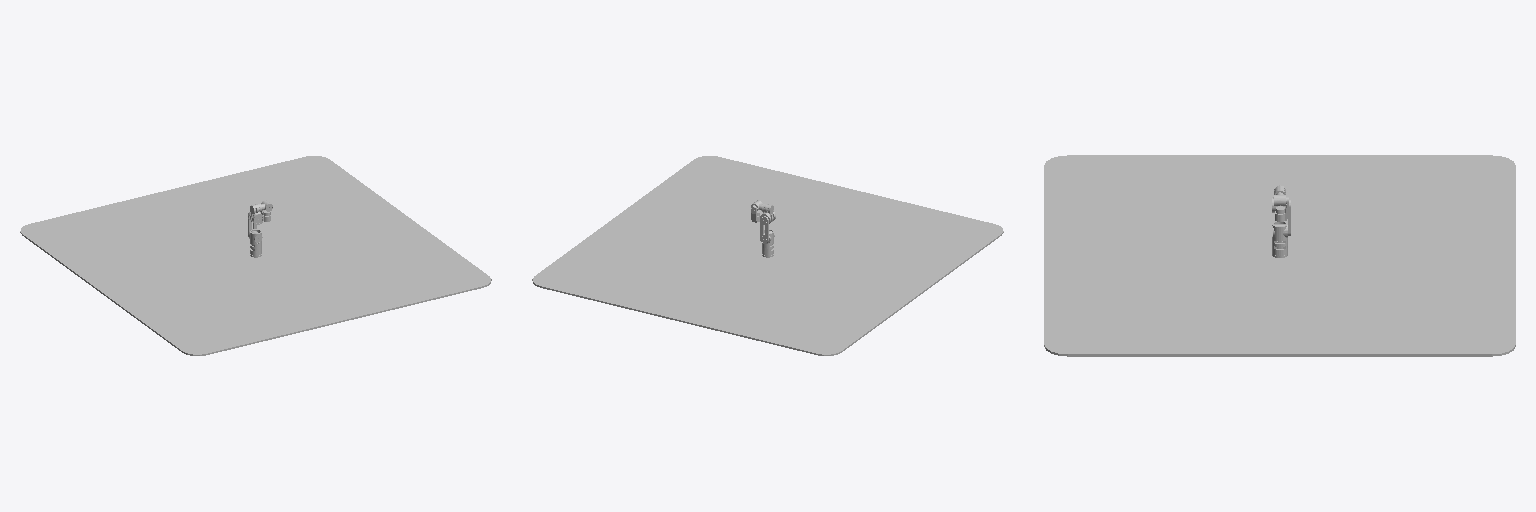
The robot description file, URDF, robot "cobot":
<?xml version="1.0" encoding="utf-8"?>
<robot name="cobot">
<!-- robot significa que a continuació vindrà la descripció d'un robot segons les regles del format URDF -->

<!-- ==========================================================================
     Aquest URDF conté TOTA la definició del cobot:
       - Cinemàtica       (links, joints, límits)      → estàndard URDF
       - Visualització    (meshes)                     → estàndard URDF
       - Propietats físiques (mass, com, inèrcia)      → estàndard URDF
       - Motors i fricció (blocs <motor> i <friction>) → EXTENSIÓ pròpia,
         no forma part del URDF oficial. La llegeix el nostre urdf_loader.py.
         RViz/Gazebo/MoveIt els ignoraran.

     Valors d'inèrcia i masses: calculats amb SolidWorks (Mass Properties).
     Unitats: SI (kg, m, kg·m²).
     ========================================================================== -->


<!--  ESTRUCTURA D'UN URDF

robot
│
├── link                : Peça rígida del robot.
│   │
│   ├── visual          : Com es veu el link.
│   │   ├── origin      : Posició i orientació del visual.
│   │   ├── geometry    : Forma del visual.
│   │   │   ├── mesh    : Fitxer STL/DAE.
│   │   │   ├── box     : Caixa.
│   │   │   ├── cylinder: Cilindre.
│   │   │   └── sphere  : Esfera.
│   │   └── material    : Color o material.
│   │       └── color   : Color RGBA.
│   │
│   ├── collision       : Geometria de col·lisió.
│   │   ├── origin      : Posició de la col·lisió.
│   │   └── geometry    : Forma de col·lisió.
│   │
│   └── inertial        : Propietats físiques.
│       ├── origin      : Centre de masses.
│       ├── mass        : Massa (kg).
│       └── inertia     : Matriu d'inèrcia.
│
├── joint               : Uneix dos links.
│   ├── parent          : Link pare.
│   ├── child           : Link fill.
│   ├── origin          : Transformació pare → fill.
│   ├── axis            : Eix de moviment.
│   ├── limit           : Límits del moviment.
│   ├── dynamics        : Fricció i amortiment.
│   ├── calibration     : Calibració.
│   ├── safety_controller : Seguretat.
│   └── mimic           : Copia un altre joint. Quan es mou un, l'altre també. 
│
├── material            : Material reutilitzable.
│   └── color           : Color RGBA.
│
├── transmission        : Relació motor-joint.
├── gazebo              : Configuració de Gazebo.
└── sensor              : Sensors.


LINK      = Peça rígida (base_link, arm1...)
JOINT     = Articulació.
Un robot sempre estarà format per link -> joint -> link -> joint, etc...

VISUAL    = El que veiem.
COLLISION = El que toca.
INERTIAL  = El que pesa.
-->


<!-- ============================================================================= -->
<!-- Definim el sistema de coordenades global - WORLD -->

  <link name="world" />
  <joint name="world_to_base" type="fixed">     <!-- enllacem world amb base_link. Mai es mourà perquè li hem dit que sigui fixed -->
    <parent link="world" />
    <child link="base_link" />
    <origin xyz="0 0 0" rpy="0 0 0" />          <!-- base_link està exactament allà mateix que world -->
  </joint>


<!-- ============================================================================= -->
<!-- BASE_LINK 
Apareixen 3 blocs: visual, collision i inertial
  - Visual: és el que es veu. No fa res, només és visual
  - Collision: Per calcular col·lisions normalment no es fa servir el propi STL perquè pesa molt, així que s'utilitzen càpsules, cilindres...
  - Inertial: és el que necessita la dinàmica; massa, centre de masses, moments d'inèrcia...
-->

  <link name="base_link">   <!-- NO carrega cap STL ni crea cap objecte... Diu que a partir d'ara descriure una peça del robot anomenada base_link -->
    <visual>
      <origin xyz="0 0 0" rpy="0 0 0" />
      <geometry><mesh filename="meshes/base_link.STL" /></geometry>
      <material name=""><color rgba="0.8 0.8 0.8 1" /></material>
    </visual>

    <!-- NO POSARÉ COLLISION perquè vull simplificar càlcul. Crearé collision_geometry.yaml amb formes molt senzilles com cilindres, rectangles... -->
    
    <inertial>
      <origin xyz="0 0 0" rpy="0 0 0"/>
      <mass value="0"/>
      <inertia ixx="0" iyy="0" izz="0" ixy="0" ixz="0" iyz="0"/>
    </inertial>
  </link>


<!-- ============================================================================= -->
<!-- ARM1 -->

  <link name="arm1">
    <visual>
      <origin xyz="0 0 0" rpy="0 0 0" />
      <geometry><mesh filename="meshes/arm1.STL" /></geometry>
      <material name=""><color rgba="0.8 0.8 0.8 1" /></material>
    </visual>
  
    <inertial>
      <origin xyz="0.00002 0.00508 0.06427" rpy="0 0 0"/>
      <mass value="1.18610"/>
      <inertia ixx="2.107185e-03" iyy="2.077276e-03" izz="2.393350e-04" ixy="-1.700000e-07" ixz="1.300000e-07" iyz="2.345680e-04"/>
    </inertial>
  </link>


<!-- Tenim diferents tipus de joints:
  - FIXED: no es mou
  - REVOLUTE: gira, es un motor normal
  - CONTINUOUS: gira infinitament (roda)
  - PRISMATIC: llisca com un pistó; endavant i enrrere
 -->

  <joint name="j1" type="revolute">
    <origin xyz="0.0 0.0 0.0098" rpy="0 0 0" />   <!-- On està el joint respecte al parent -->
    <parent link="base_link" />
    <child link="arm1" />
    <axis xyz="0 0 1" />                          <!-- Al voltant de quin eix gira el motor. Regla mà dreta -->
    <limit lower="-3.1416" upper="3.1416" />      <!-- podem posar effort ( N*m del motor SitoDrive ) i velocity ( velocitat angular màxima ) -->
  </joint>


<!-- ============================================================================= -->
<!-- ARM2 -->


  <link name="arm2">
    <visual>
      <origin xyz="0 0 0" rpy="0 0 0" />
      <geometry><mesh filename="meshes/arm2.STL" /></geometry>
      <material name=""><color rgba="0.8 0.8 0.8 1" /></material>
    </visual>
  
    <inertial>
      <origin xyz="0.00000 0.00606 0.06000" rpy="0 0 0"/>
      <mass value="0.10453"/>
      <inertia ixx="2.344260e-04" iyy="2.560720e-04" izz="2.407600e-05" ixy="0.000000e+00" ixz="0.000000e+00" iyz="0.000000e+00"/>
    </inertial>
  </link>


  <joint name="j2" type="revolute">
    <origin xyz="0 0.035 0.1049" rpy="0 0 0" />
    <parent link="arm1" />
    <child link="arm2" />
    <axis xyz="0 1 0" />
    <limit lower="-3.1416" upper="3.1416" />
  </joint>


<!-- ============================================================================= -->
<!-- ARM3 -->

  <link name="arm3">
    <visual>
      <origin xyz="0 0 0" rpy="0 0 0" />
      <geometry><mesh filename="meshes/arm3.STL" /></geometry>
      <material name=""><color rgba="0.8 0.8 0.8 1" /></material>
    </visual>
  
    <inertial>
      <origin xyz="0.00163 -0.02839 0.01695" rpy="0 0 0"/>
      <mass value="0.87911"/>
      <inertia ixx="7.074060e-04" iyy="6.839500e-04" izz="1.645790e-04" ixy="-7.809000e-06" ixz="4.734300e-05" iyz="-8.915700e-05"/>
    </inertial>
  </link>


  <joint name="j3" type="revolute">
    <origin xyz="0.0 0.0 0.12" rpy="0 0 0" />
    <parent link="arm2" />
    <child link="arm3" />
    <axis xyz="0 1 0" />
    <limit lower="-3.1416" upper="3.1416" />
  </joint>


<!-- ============================================================================= -->
<!-- ARM4 
  - ATENCIÓ: si només volem canviar la direcció de arm4 hem de modificar xyz i rpy de link name="arm4"
  Però si volem canviar la direcció de tot el següent, és a dir, a partir del j4 per endavant, haurem 
  de modificar xyz i rpy de joint name="j4"
-->

  <link name="arm4">
    <visual>
      <origin xyz="0 0 0" rpy="3.1416 0 0" />                   
      <geometry><mesh filename="meshes/arm4.STL" /></geometry>
      <material name=""><color rgba="0.8 0.8 0.8 1" /></material>
    </visual>
  
    <inertial>
      <origin xyz="0.04230 -0.00431 -0.00003" rpy="0 0 0"/>
      <mass value="0.30178"/>
      <inertia ixx="3.770400e-05" iyy="5.780400e-05" izz="6.233700e-05" ixy="-3.616000e-06" ixz="-3.100000e-08" iyz="-7.000000e-09"/>
    </inertial>
  </link>


  <joint name="j4" type="revolute">
    <origin xyz="0.02765 -0.034375 0.0537" rpy="0 0 0" />
    <parent link="arm3" />
    <child link="arm4" />
    <axis xyz="1 0 0" />
    <limit lower="-3.1416" upper="3.1416" />
  </joint>


<!-- ============================================================================= -->
<!-- ARM5 -->

  <link name="arm5">
    <visual>
      <origin xyz="0 0 0" rpy="0 0 0" />
      <geometry><mesh filename="meshes/arm5.STL" /></geometry>
      <material name=""><color rgba="0.8 0.8 0.8 1" /></material>
    </visual>
  
    <inertial>
      <origin xyz="0.06306 -0.02194 -0.00009" rpy="0 0 0"/>
      <mass value="0.30859"/>
      <inertia ixx="6.213200e-05" iyy="1.015300e-04" izz="1.345630e-04" ixy="-4.244400e-05" ixz="-7.400000e-08" iyz="1.350000e-07"/>
    </inertial>
  </link>


  <joint name="j5" type="revolute">
    <origin xyz="0.045 0.02755 0.0" rpy="0 1.5708 0" />
    <parent link="arm4" />
    <child link="arm5" />
    <axis xyz="0 1 0" />
    <limit lower="-3.1416" upper="3.1416" />
  </joint>


<!-- ============================================================================= -->
<!-- CAPCAL -->

  <link name="capcal">
    <visual>
      <origin xyz="0 0 0" rpy="0 0 0" />
      <geometry><mesh filename="meshes/capcal.STL" /></geometry>
      <material name=""><color rgba="0.8 0.8 0.8 1" /></material>
    </visual>
  
    <inertial>
      <origin xyz="0.00964 0.00000 0.00000" rpy="0 0 0"/>
      <mass value="0.03163"/>
      <inertia ixx="3.882000e-06" iyy="4.629000e-06" izz="4.629000e-06" ixy="0.000000e+00" ixz="0.000000e+00" iyz="0.000000e+00"/>
    </inertial>
  </link>


  <joint name="j6" type="revolute">
    <origin xyz="0.08955 -0.0265 0.0" rpy="0 0 0" />
    <parent link="arm5" />
    <child link="capcal" />
    <axis xyz="1 0 0" />
    <limit lower="-3.1416" upper="3.1416" />
  </joint>


<!-- ============================================================================= -->
<!-- TCP_LINK (Tool Center Point)
Punt final del robot.
Totes les FK, IK, trajectòries i eines es referiran a aquest punt.
-->

  <link name="tcp_link"/>
  <joint name="tcp_joint" type="fixed">
    <origin xyz="0.04240 0 0" rpy="0 0 0" />
    <parent link="capcal" />
    <child link="tcp_link" />
  </joint>




  <!-- ============================================================================
       EXTENSIÓ NO-ESTÀNDARD: PROPIETATS DELS MOTORS I FRICCIÓ
       Aquestes seccions <motor> i <friction> no formen part del URDF oficial.
       Les llegeix el nostre urdf_loader.py per configurar motor_model.py.

       MOLT IMPORTANT!!!
        - El valor de kt relaciona el corrent que passa pel motor amb el torque que genera.
          Si kt alt = molt de parell amb poc corrent. 
          Si kt baix = necessita molt corrent per generar parell.
        
        - El valor del torque_Nm és el parell mínim que has d'aplicar per començar a moure el joint.
       ============================================================================ -->


  <motor joint="j1" type="TA-52" gear_ratio="101" kt="5.19"/>  <!-- Copiat del j2 (mateix motor TA-52 + reductora 101:1). No mesurable directament: eix vertical, gravetat no genera parell   3.25-->
  <motor joint="j2" type="TA-52" gear_ratio="101" kt="3.39"/>  <!-- CALIBRAT a q=[0,90°,0,0,0,0]: τ_teòric=-2.115 Nm, I_grav=(-1500+200)/2=-650 mA → kt = 2.115/0.650 = 3.25 Nm/A    3.25-->
  <motor joint="j3" type="TA-52" gear_ratio="101" kt="5.19"/>  <!-- Copiat del j2 (mateix motor). Mesura pròpia a q=[0,0,90°,0,0,0] no fiable perquè τ_teòric era només 0.263 Nm    3.25-->
  <motor joint="j4" type="TA-40" gear_ratio="101" kt="2.31"/>  <!-- Del datasheet. No mesurable: I_grav=0 (eix alineat amb gravetat en la config utilitzada)    2.31-->
  <motor joint="j5" type="TA-40" gear_ratio="101" kt="2.31"/>  <!-- Del datasheet. Mesura pròpia no fiable perquè τ_teòric era només 0.222 Nm i I_grav=50 mA (dins l'error de mesura)    2.31-->
  <motor joint="j6" type="TA-40" gear_ratio="51"  kt="1.17"/>  <!-- Del datasheet. No mesurable: broca massa lleugera (30 g) per generar parell mesurable    1.17-->


  <friction joint="j1" torque_Nm="0.0"/>  <!-- CALIBRAT: I_fric = |600-(-600)|/2 = 600 mA → 3.25 × 600/1000 = 1.9500 Nm (config j3=90°). Alternativa a q=0: |550-(-550)|/2 = 550 mA → 3.25 × 550/1000 = 1.7875 Nm. Uso valor conservador -->
  <friction joint="j2" torque_Nm="2.42"/>  <!-- CALIBRAT: I_fric = |-1500-200|/2 = 850 mA → 3.25 × 850/1000 = 2.7625 Nm -->
  <friction joint="j3" torque_Nm="0.0"/>  <!-- CALIBRAT: I_fric = |700-(-270)|/2 = 485 mA → 3.25 × 485/1000 = 1.5763 Nm -->
  <friction joint="j4" torque_Nm="0.0"/>  <!-- CALIBRAT: I_fric = |-700-700|/2 = 700 mA → 2.31 × 700/1000 = 1.6170 Nm -->
  <friction joint="j5" torque_Nm="0.0"/>  <!-- CALIBRAT: I_fric = |720-(-620)|/2 = 670 mA → 2.31 × 670/1000 = 1.5477 Nm -->
  <friction joint="j6" torque_Nm="0.0"/>  <!-- CALIBRAT: I_fric = |550-(-550)|/2 = 550 mA → 1.17 × 550/1000 = 0.6435 Nm -->


  <gravity xyz="0 0 -9.81"/>

</robot>

--- Facts derived from the render (not from the file) ---
3 views of the same robot in one strip: view 1: azimuth 30°, elevation 25°; view 2: azimuth 150°, elevation 25°; view 3: azimuth 270°, elevation 25° (orthographic).
Model cobot with 9 links and 8 joints (6 revolute, 2 fixed), rooted at world, posed all joints at 0.
Links seen in each view (by area): view 1: base_link; view 2: base_link; view 3: base_link, arm1.
Boxes of the visible links, x1,y1,x2,y2 form: base_link: (20,156,491,355); base_link: (532,156,1003,355); base_link: (1044,155,1515,356); arm1: (1272,221,1287,255).
Size in the robot's own frame: 2 by 2 by 0.3234 metres.
6 mesh visuals loaded from 7 distinct referenced files (6 binary STL); not drawn: 1 (reference not matched to a file when rendering).
